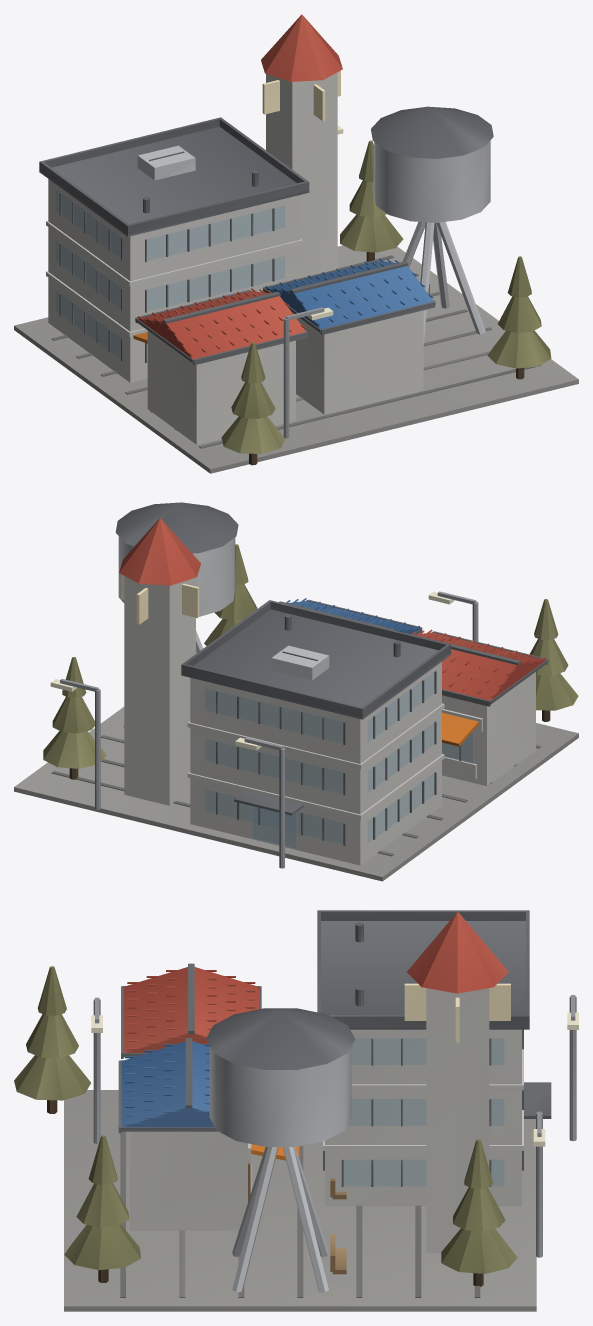
Rendered from Civic_P2.fbx.
3 views of the same model, one above another, from view 1: azimuth 30°, elevation 25°; view 2: azimuth 150°, elevation 25°; view 3: azimuth 270°, elevation 25° (orthographic). The views are drawn at different scales.
Parts seen in each view (by area): view 1: Civic.Hall, Civic.Plaza, Civic.Shop1, Civic.Shop0, Civic.WaterTower, Civic.Tower, Civic.Tree2, Civic.Tree1, Civic.Tree0, Civic.Paving, Civic.Lamp0; view 2: Civic.Hall, Civic.Tower, Civic.Plaza, Civic.Shop0, Civic.WaterTower, Civic.Tree0, Civic.Tree2, Civic.Tree1, Civic.Shop1, Civic.Lamp1, Civic.Lamp2, Civic.Paving (+1 smaller); view 3: Civic.Plaza, Civic.Hall, Civic.WaterTower, Civic.Tower, Civic.Shop1, Civic.Shop0, Civic.Tree2, Civic.Tree0, Civic.Tree1, Civic.Paving, Civic.Lamp0, Civic.Lamp2 (+2 smaller).
Boxes of the visible parts, left/top/right/bottom form: Civic.Hall: left=39, top=117, right=309, bottom=382; Civic.Plaza: left=14, top=245, right=578, bottom=473; Civic.Shop1: left=263, top=258, right=435, bottom=414; Civic.Shop0: left=133, top=288, right=307, bottom=444; Civic.WaterTower: left=371, top=106, right=493, bottom=344; Civic.Tower: left=261, top=14, right=342, bottom=278; Civic.Tree2: left=221, top=342, right=285, bottom=465; Civic.Tree1: left=487, top=256, right=551, bottom=379; Civic.Tree0: left=340, top=140, right=403, bottom=261; Civic.Paving: left=51, top=255, right=541, bottom=448; Civic.Lamp0: left=283, top=307, right=333, bottom=438; Civic.Hall: left=181, top=600, right=450, bottom=865; Civic.Tower: left=119, top=518, right=201, bottom=805; Civic.Plaza: left=14, top=707, right=578, bottom=881; Civic.Shop0: left=406, top=629, right=548, bottom=786; Civic.WaterTower: left=115, top=502, right=238, bottom=727; Civic.Tree0: left=43, top=657, right=106, bottom=779; Civic.Tree2: left=530, top=599, right=578, bottom=721; Civic.Tree1: left=204, top=544, right=257, bottom=645; Civic.Shop1: left=279, top=598, right=422, bottom=634; Civic.Lamp1: left=50, top=679, right=100, bottom=809; Civic.Lamp2: left=235, top=737, right=284, bottom=868; Civic.Paving: left=51, top=735, right=541, bottom=856; Civic.Plaza: left=64, top=1090, right=536, bottom=1311; Civic.Hall: left=317, top=910, right=551, bottom=1206; Civic.WaterTower: left=206, top=1008, right=355, bottom=1292; Civic.Tower: left=404, top=911, right=510, bottom=1252; Civic.Shop1: left=118, top=1038, right=299, bottom=1230; Civic.Shop0: left=121, top=963, right=261, bottom=1058; Civic.Tree2: left=14, top=966, right=90, bottom=1113; Civic.Tree0: left=441, top=1139, right=517, bottom=1286; Civic.Tree1: left=64, top=1135, right=140, bottom=1282; Civic.Paving: left=120, top=1131, right=480, bottom=1297; Civic.Lamp0: left=91, top=997, right=102, bottom=1143; Civic.Lamp2: left=567, top=995, right=578, bottom=1141.
Bounding box in the file's own units: 2600 × 1871 × 2870.
